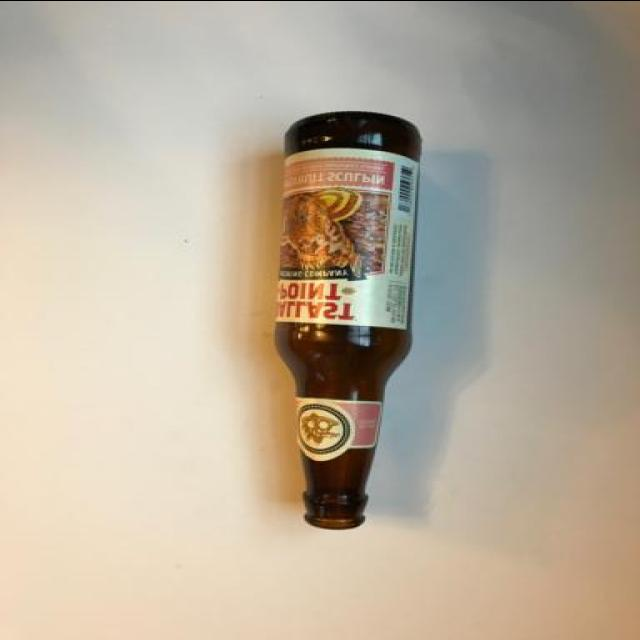glass: (281, 111, 423, 529)
